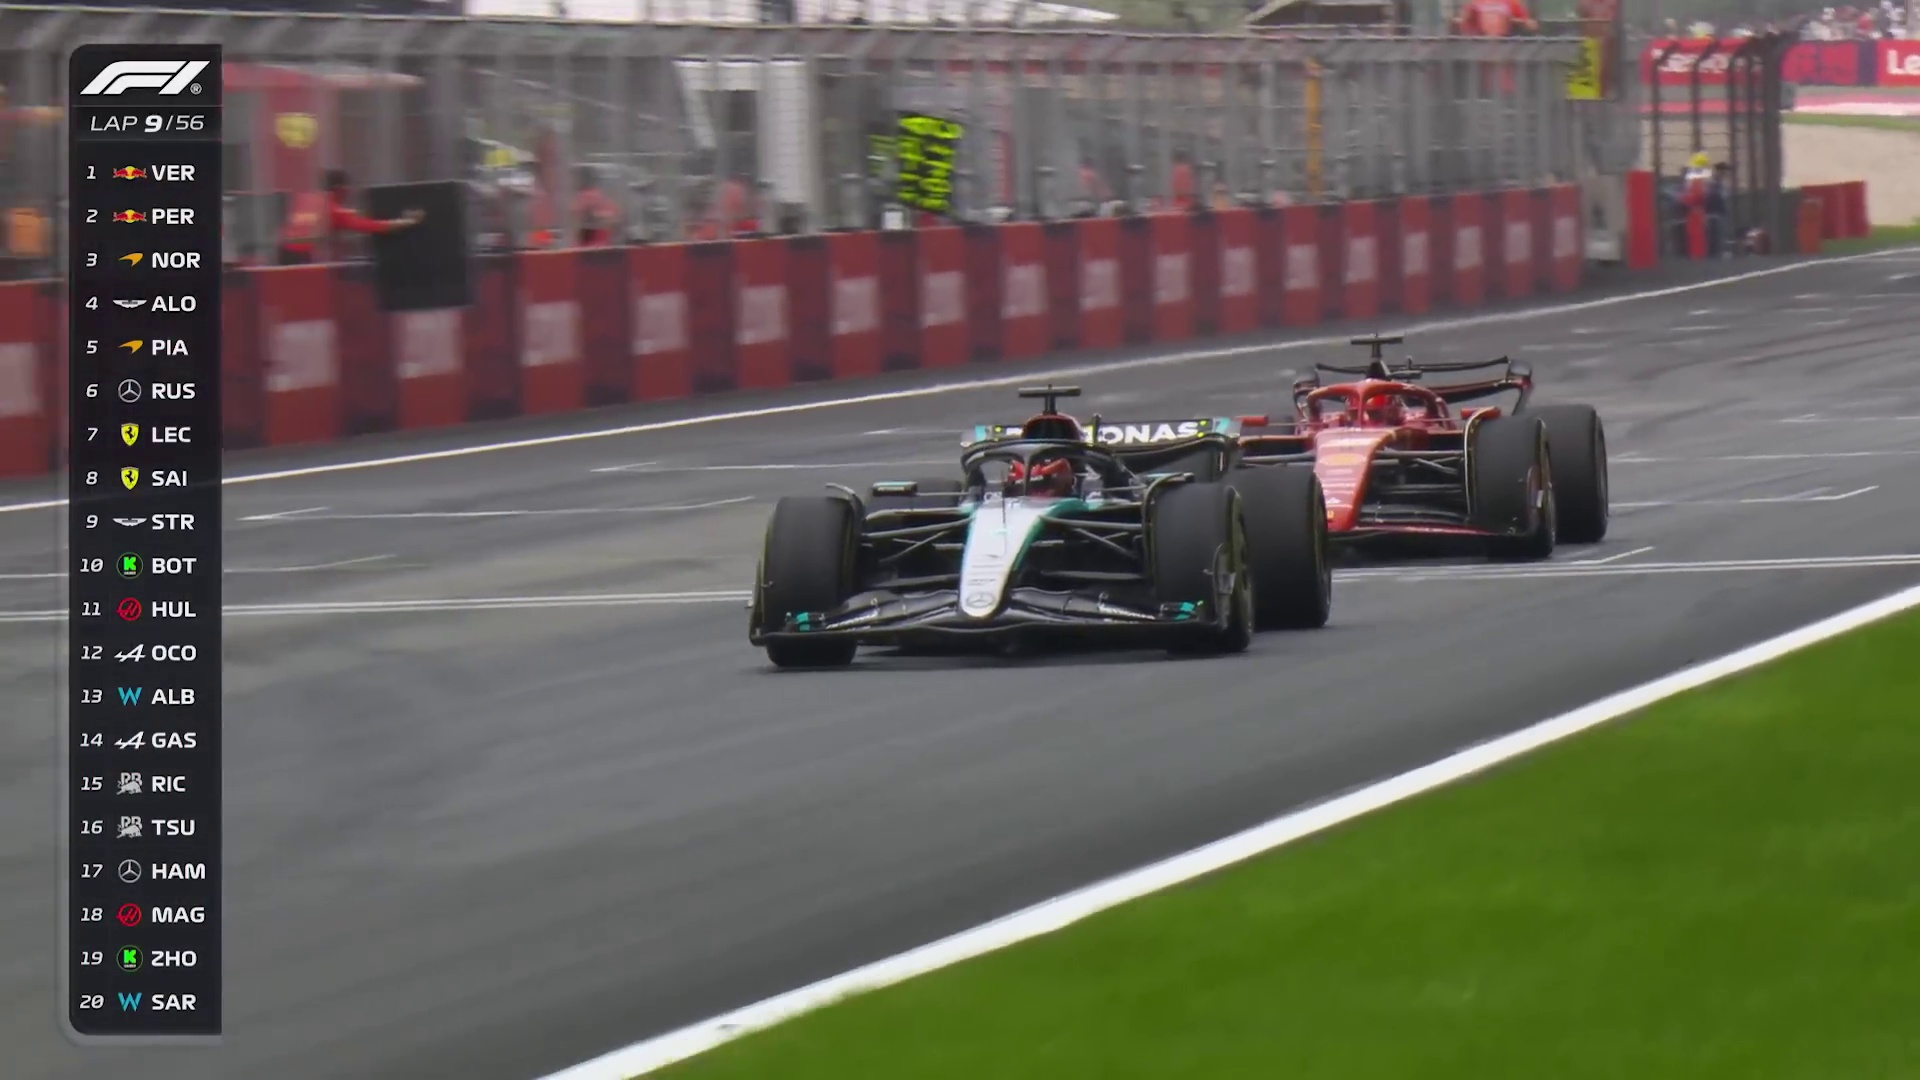Ferrari: (1218, 363, 1601, 549)
Mercedes: (752, 417, 1316, 657)
